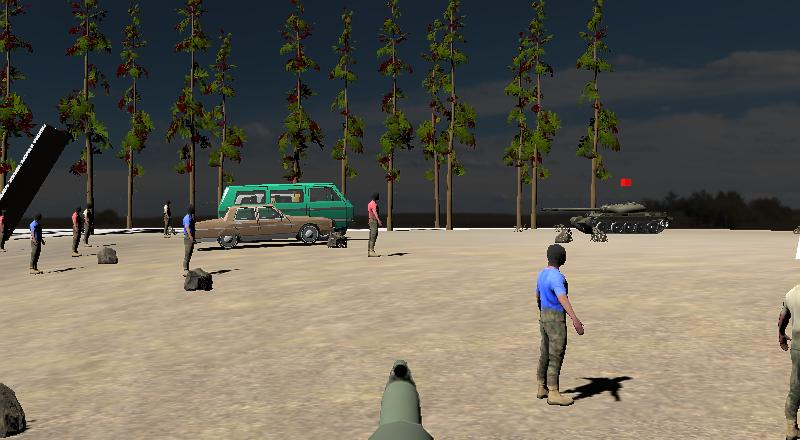Human: (536, 242, 585, 405), (776, 258, 800, 438), (367, 190, 383, 258), (29, 212, 46, 275), (182, 204, 197, 273), (70, 205, 83, 257), (82, 202, 95, 248), (161, 200, 173, 237), (0, 209, 10, 252)
Tank: (539, 200, 671, 235)
car: (217, 182, 355, 233), (192, 206, 334, 248)
